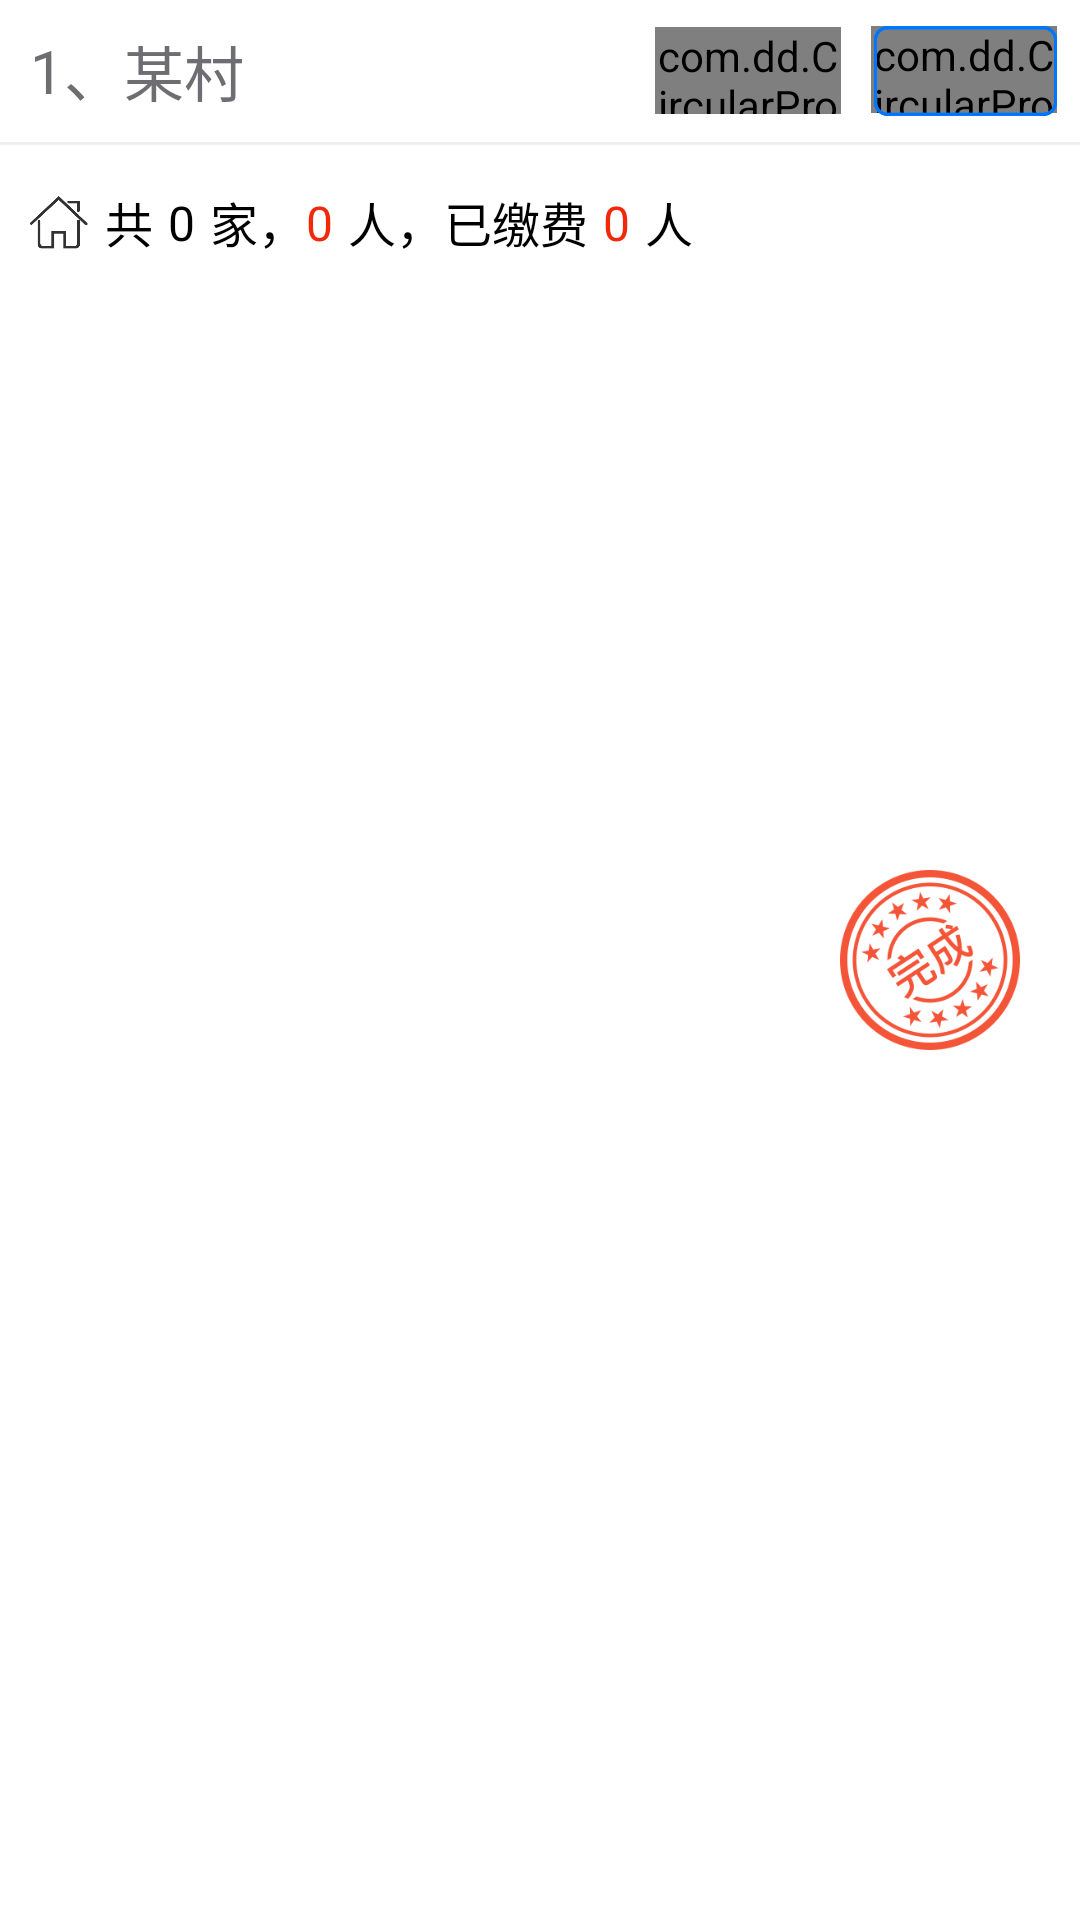

Where icons sit on this 1080px×1920px app screen, as (x1, y1, x2, y2):
yezhuguanli: (30, 196, 88, 249)
